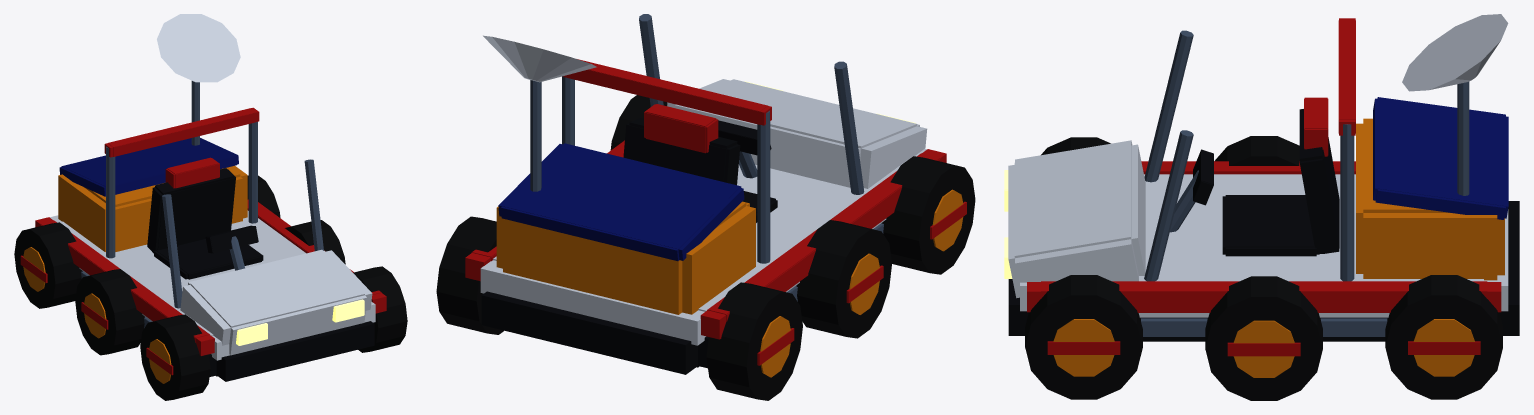
File: moon_rover_6x6.glb
3 views of the same model, side by side, from view 1: azimuth 30°, elevation 25°; view 2: azimuth 150°, elevation 25°; view 3: azimuth 270°, elevation 25° (orthographic). The views are drawn at different scales.
Parts seen in each view (by area): view 1: RoverChassis, RoverWheelFL, RoverWheelML, RoverWheelRL, RoverWheelFR, RoverWheelMR, RoverWheelRR; view 2: RoverChassis, RoverWheelRL, RoverWheelML, RoverWheelFL, RoverWheelRR, RoverWheelFR; view 3: RoverChassis, RoverWheelMR, RoverWheelFR, RoverWheelRR, RoverWheelML, RoverWheelFL.
Boxes of the visible parts, box(x1,y1,x2,y2) form: RoverChassis: box(35, 14, 386, 381); RoverWheelFL: box(140, 314, 210, 400); RoverWheelML: box(75, 269, 144, 355); RoverWheelRL: box(14, 222, 82, 308); RoverWheelFR: box(353, 266, 407, 352); RoverWheelMR: box(285, 220, 345, 264); RoverWheelRR: box(247, 175, 280, 217); RoverChassis: box(465, 14, 946, 374); RoverWheelRL: box(706, 282, 802, 400); RoverWheelML: box(796, 220, 891, 338); RoverWheelFL: box(881, 156, 975, 274); RoverWheelRR: box(436, 216, 503, 334); RoverWheelFR: box(610, 95, 667, 150); RoverChassis: box(1004, 14, 1519, 341); RoverWheelMR: box(1205, 276, 1322, 400); RoverWheelFR: box(1025, 275, 1142, 399); RoverWheelRR: box(1385, 275, 1502, 399); RoverWheelML: box(1214, 136, 1299, 165); RoverWheelFL: box(1041, 137, 1110, 155).
Bounding box in the file's own units: 2.23 × 2.14 × 2.98.
